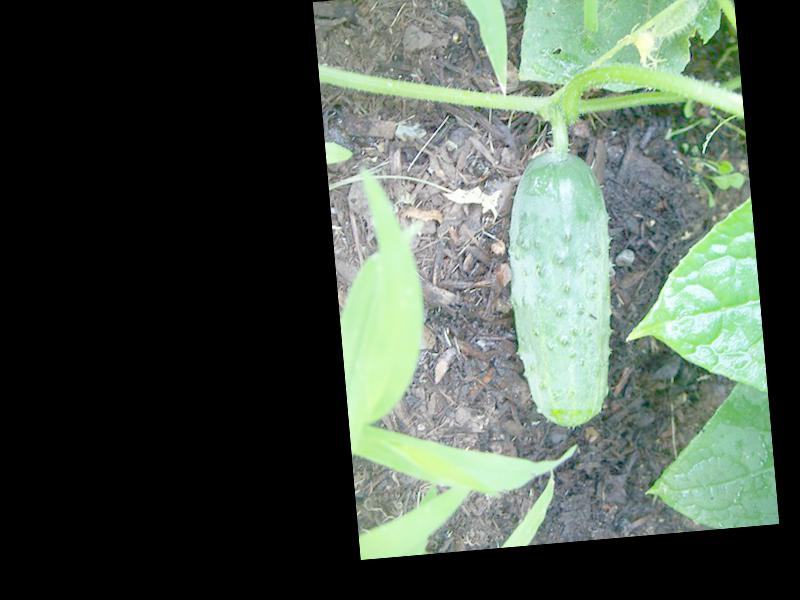Cucumber: (498, 147, 625, 433)
